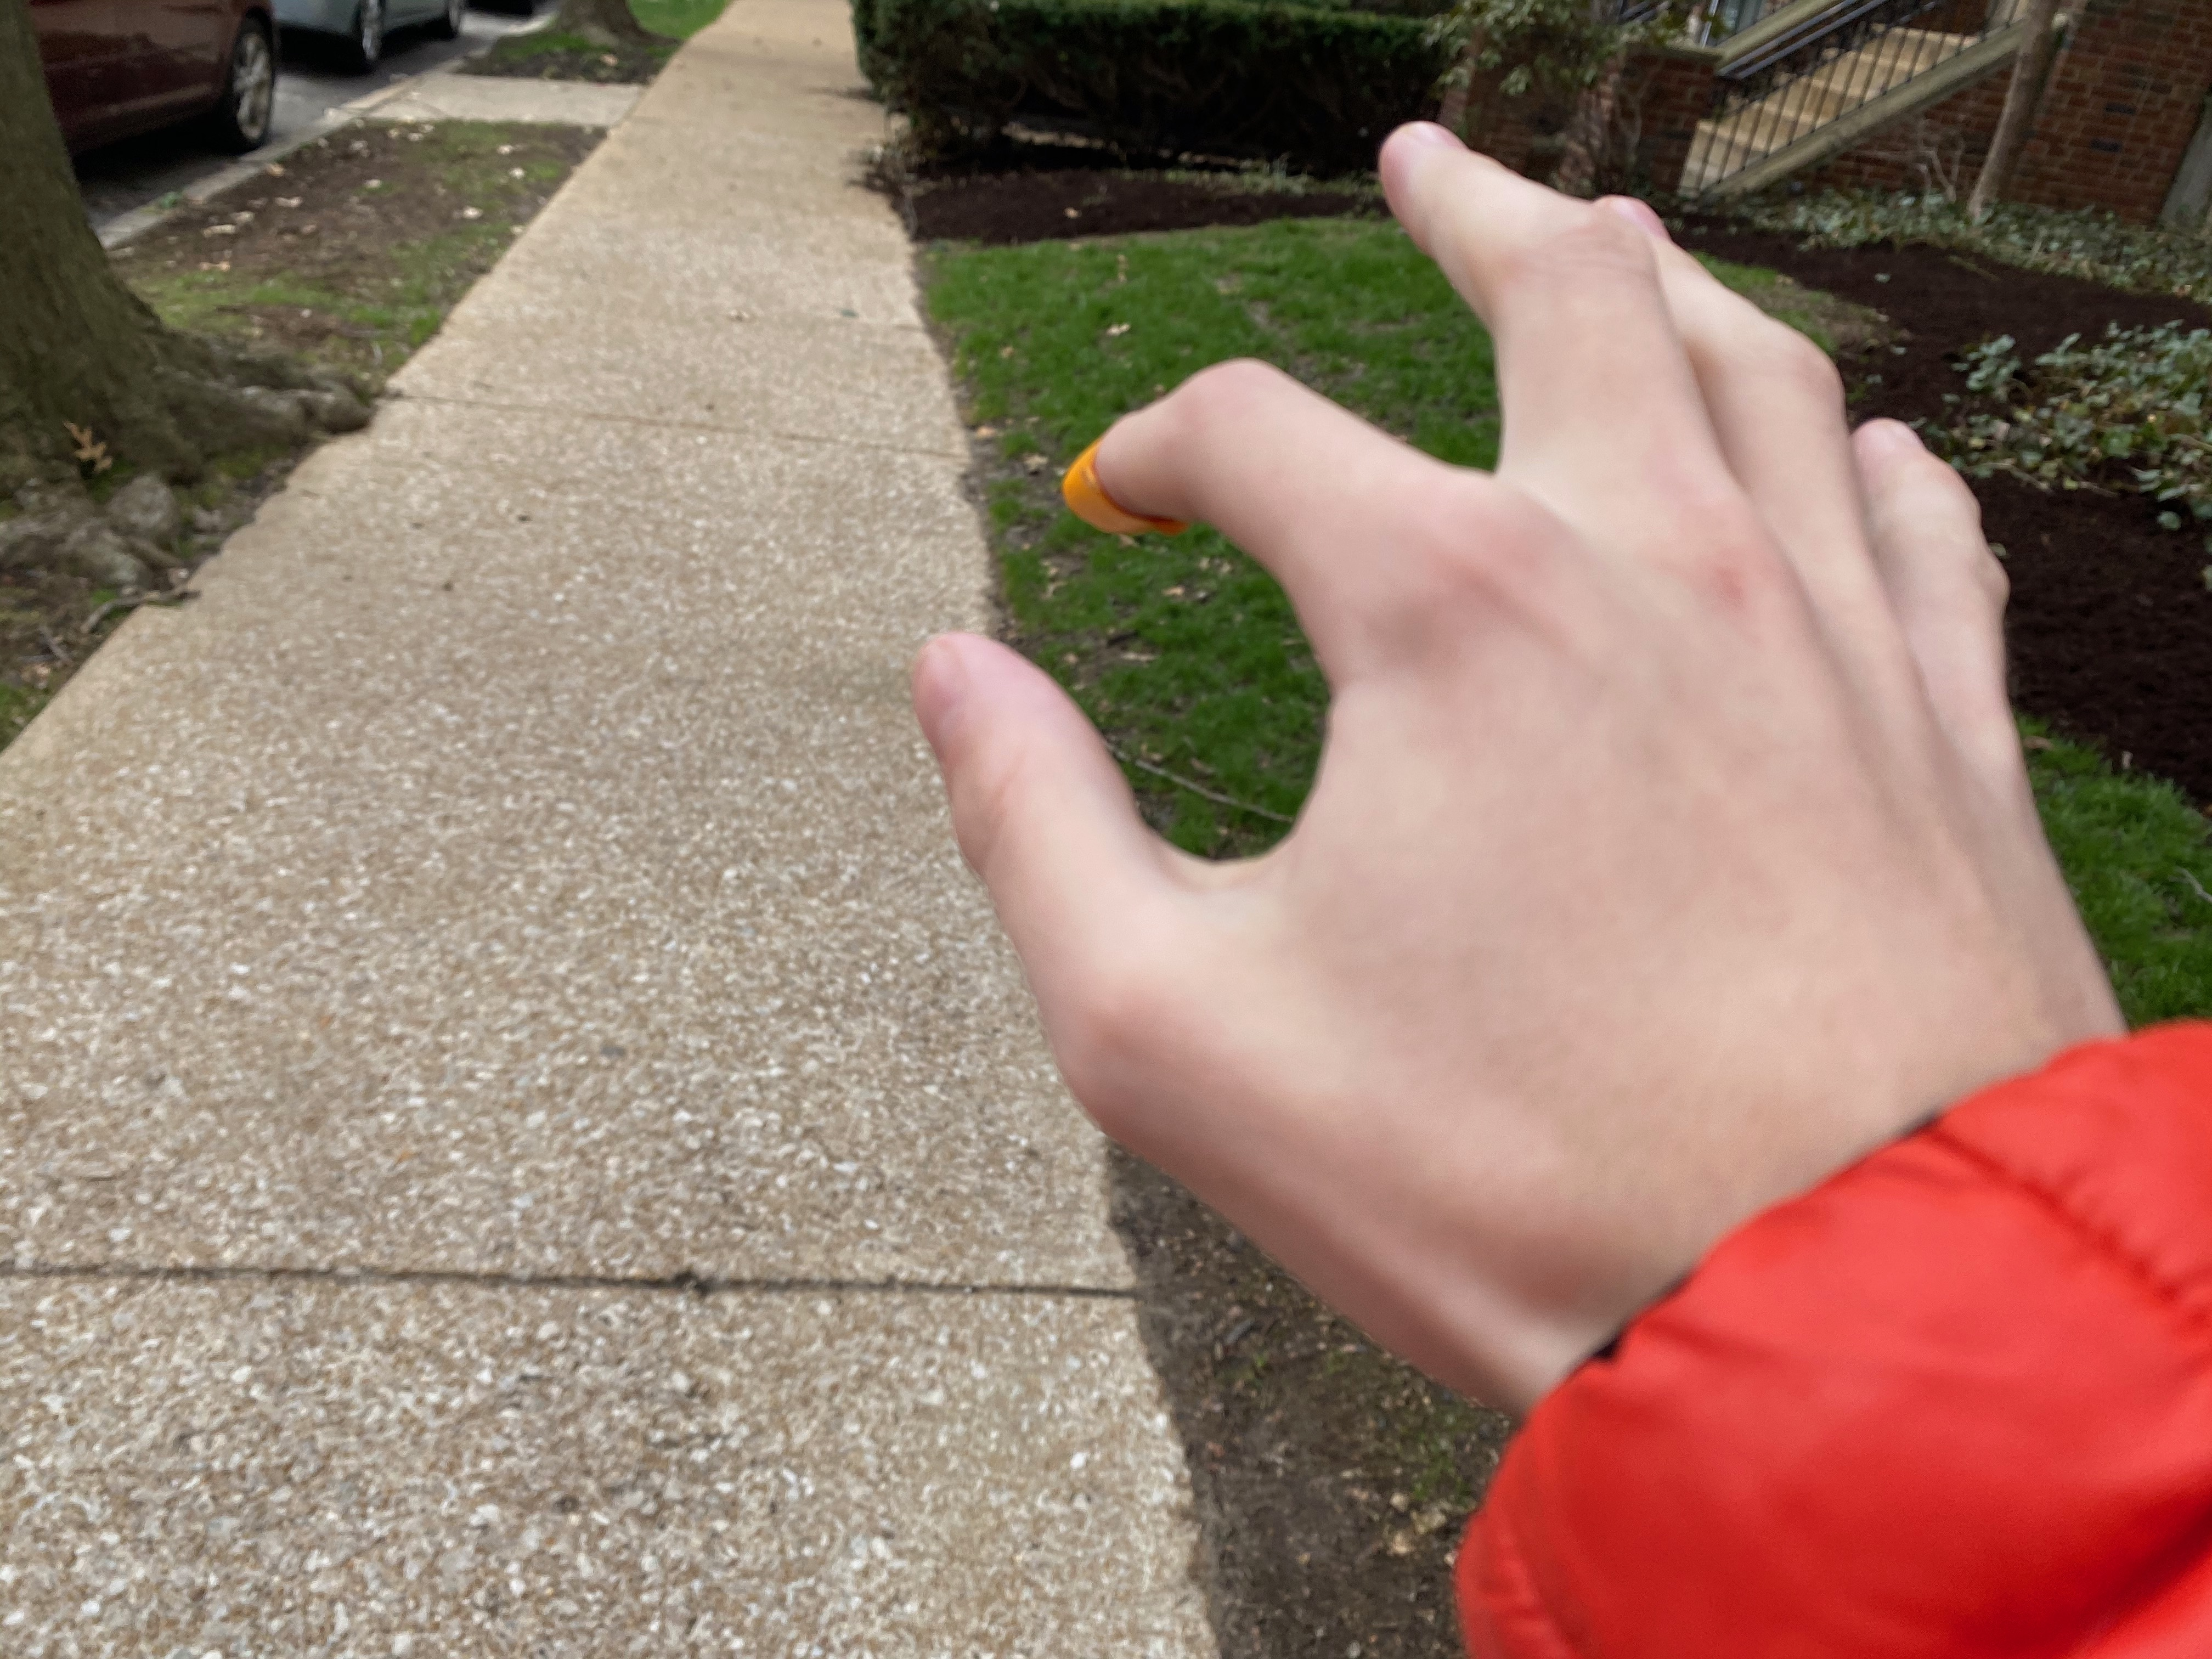fingertip: (1031, 413, 1223, 568)
